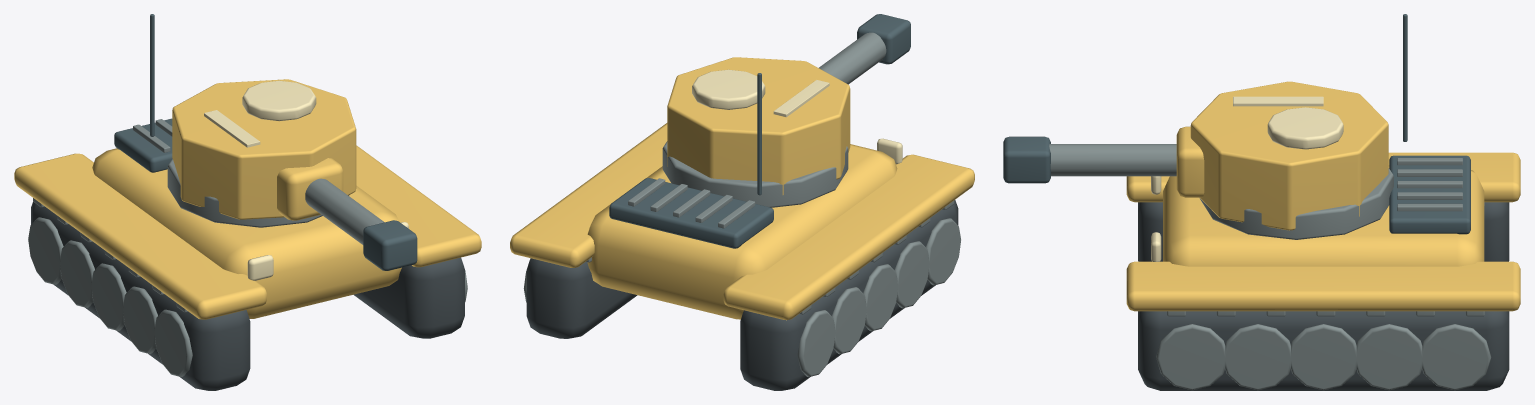
The model's file is Tank.fbx.
The picture shows the model from 3 angles, left to right: view 1: azimuth 30°, elevation 25°; view 2: azimuth 150°, elevation 25°; view 3: azimuth 270°, elevation 25°; orthographic projection. The views are drawn at different scales.
Parts seen in each view (by area): view 1: Octagonal turret, Armored hull, Fender, Track assembly, Track assembly.001, Fender.001, Commander hatch, Gun mantlet, Cannon barrel, Muzzle brake, Road wheel, Road wheel.004 (+8 smaller); view 2: Armored hull, Octagonal turret, Fender, Fender.001, Track assembly, Track assembly.001, Engine deck, Turret ring, Commander hatch, Road wheel.004, Cannon barrel, Road wheel (+7 smaller); view 3: Octagonal turret, Fender.001, Armored hull, Track assembly.001, Cannon barrel, Engine deck, Turret ring, Road wheel.005, Road wheel.009, Road wheel.008, Road wheel.006, Road wheel.007 (+12 smaller).
Part boxes in pixels (x1,y1,x2,y2): Octagonal turret: (172, 79, 356, 219); Armored hull: (92, 148, 401, 318); Fender: (14, 153, 266, 319); Track assembly: (31, 201, 250, 390); Track assembly.001: (353, 257, 464, 338); Fender.001: (356, 145, 481, 267); Commander hatch: (242, 80, 316, 121); Gun mantlet: (277, 158, 343, 220); Cannon barrel: (305, 178, 384, 244); Muzzle brake: (363, 220, 417, 270); Road wheel: (154, 309, 192, 376); Road wheel.004: (28, 217, 63, 284); Armored hull: (587, 144, 897, 319); Octagonal turret: (667, 57, 850, 194); Fender: (723, 154, 974, 320); Fender.001: (510, 123, 667, 267); Track assembly: (740, 200, 958, 390); Track assembly.001: (526, 258, 637, 338); Engine deck: (609, 178, 773, 248); Turret ring: (662, 141, 848, 207); Commander hatch: (692, 69, 765, 109); Road wheel.004: (797, 310, 835, 376); Cannon barrel: (819, 32, 886, 84); Road wheel: (926, 218, 960, 285); Octagonal turret: (1190, 81, 1388, 230); Fender.001: (1126, 261, 1520, 311); Armored hull: (1163, 166, 1484, 266); Track assembly.001: (1138, 311, 1509, 390); Cannon barrel: (1049, 144, 1176, 176); Engine deck: (1389, 155, 1470, 234); Turret ring: (1199, 168, 1393, 239); Road wheel.005: (1156, 324, 1225, 390); Road wheel.009: (1422, 324, 1491, 390); Road wheel.008: (1356, 324, 1422, 390); Road wheel.006: (1225, 324, 1290, 390); Road wheel.007: (1291, 324, 1356, 390).
Size of the model in its own units: 151 by 140 by 228.
